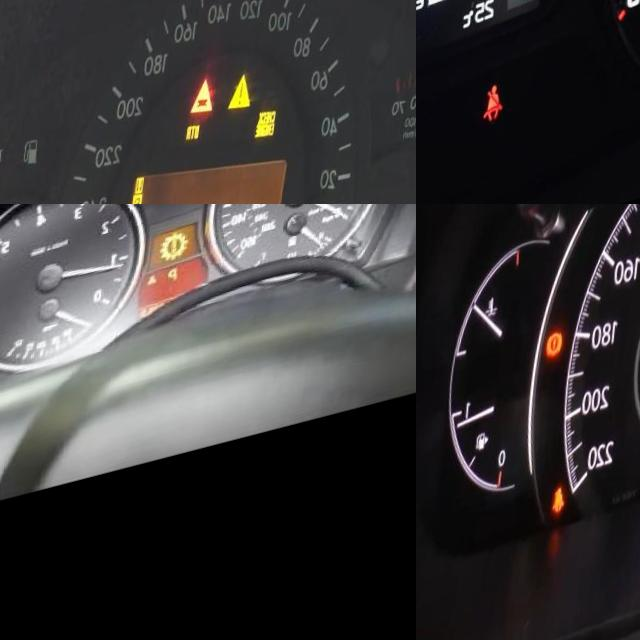Central Warning lamp: (233, 86, 261, 128)
